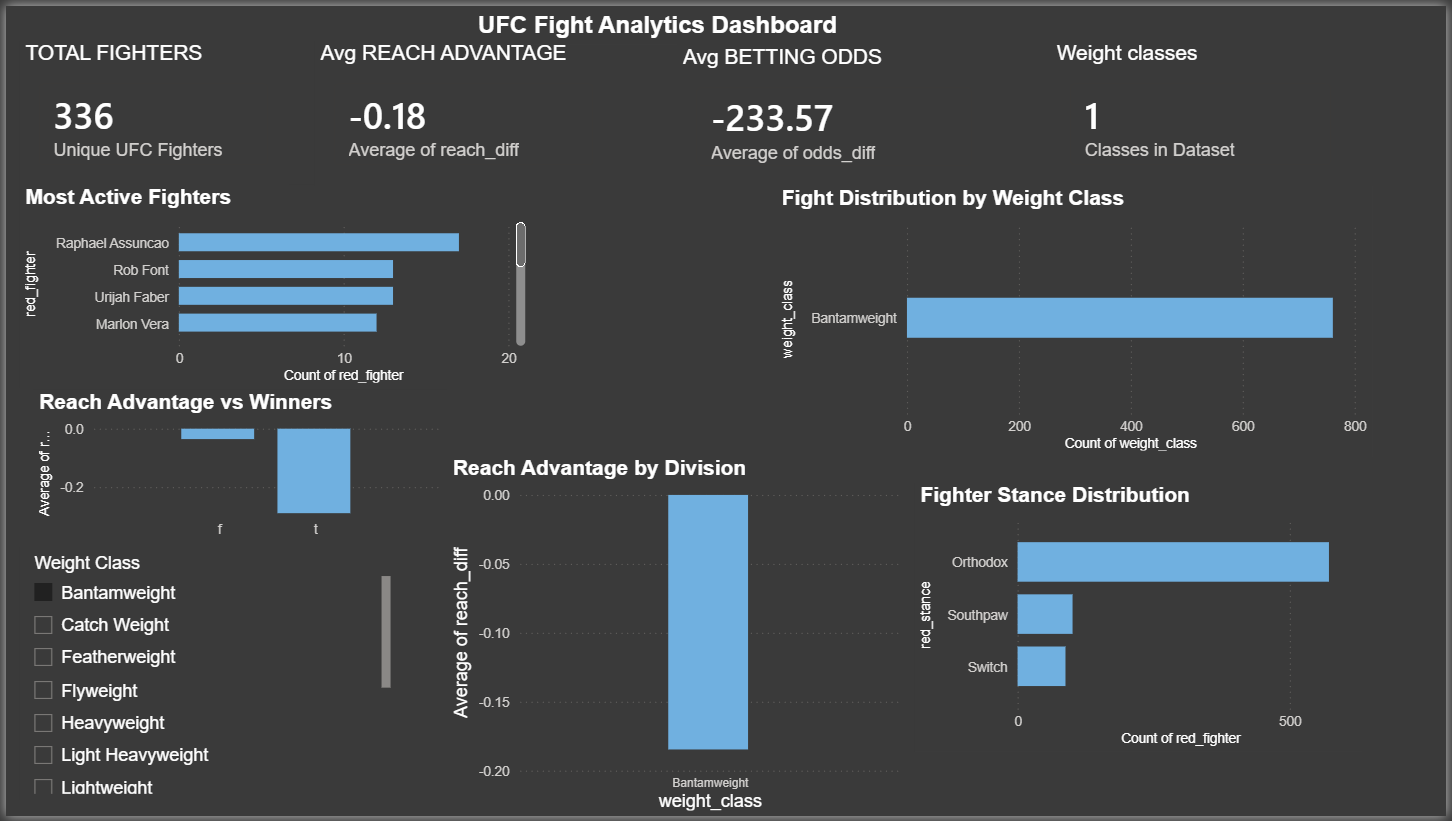

What the dashboard file says about the page in this screenshot:
{"tool":"powerbi","page":{"name":"Page 1","canvas":[1280,720],"ordinal":0},"visuals":[{"type":"barChart","title":"Most Active Fighters","fields":{"Category":["all_fights.red_fighter"],"Y":["CountNonNull(all_fights.red_fighter)"]},"box":[12.4,159.4,454.5,180.9],"z":0},{"type":"barChart","title":"Fight Distribution by Weight Class","fields":{"Category":["all_fights.weight_class"],"Y":["CountNonNull(all_fights.weight_class)"]},"box":[683.9,159.6,530.6,240.4],"z":1000},{"type":"clusteredColumnChart","title":"Reach Advantage vs Winners","fields":{"Category":["all_fights.red_winner"],"Y":["Avg(all_fights.reach_diff)"]},"box":[24.6,340.6,367.4,140.7],"z":2000},{"type":"slicer","fields":{"Values":["all_fights.weight_class"]},"box":[12.3,481.3,335,224.4],"z":3000},{"type":"cardVisual","title":"Weight classes","fields":{"Data":["Count(all_fights.weight_class)"]},"box":[929,31.3,266.9,128.4],"z":4000},{"type":"cardVisual","title":"   TOTAL FIGHTERS","fields":{"Data":["all_fights.ALL UFC FIGHTERS"]},"box":[12.3,31.3,239,128.4],"z":5000},{"type":"cardVisual","title":"Avg REACH ADVANTAGE","fields":{"Data":["Avg(all_fights.reach_diff)"]},"box":[274.7,31.3,265.8,128.4],"z":6000},{"type":"cardVisual","title":"Avg BETTING ODDS","fields":{"Data":["Avg(all_fights.odds_diff)"]},"box":[596.3,34.6,279.2,125.1],"z":7000},{"type":"barChart","title":"Fighter Stance Distribution","fields":{"Category":["all_fights.red_stance"],"Y":["CountNonNull(all_fights.red_fighter)"]},"box":[807.3,424.9,397.9,238.3],"z":8000},{"type":"columnChart","title":"Reach Advantage by Division","fields":{"Category":["all_fights.weight_class"],"Y":["Avg(all_fights.reach_diff)"]},"box":[391.9,399.8,407.6,320.5],"z":9000},{"type":"textbox","box":[414.1,0,461.3,34.6],"z":10000}]}

Visuals, with their boxes in screenshot pixels (x1, y1, x2, y2), scaled from the page's 1280x720 canvas onto the 1452x821 screenshot:
"Most Active Fighters" barChart: rect(14, 182, 530, 388)
"Fight Distribution by Weight Class" barChart: rect(776, 182, 1378, 456)
"Reach Advantage vs Winners" clusteredColumnChart: rect(28, 388, 445, 549)
slicer - all_fights.weight_class: rect(14, 549, 394, 805)
"Weight classes" cardVisual: rect(1054, 36, 1357, 182)
"   TOTAL FIGHTERS" cardVisual: rect(14, 36, 285, 182)
"Avg REACH ADVANTAGE" cardVisual: rect(312, 36, 613, 182)
"Avg BETTING ODDS" cardVisual: rect(676, 39, 993, 182)
"Fighter Stance Distribution" barChart: rect(916, 485, 1367, 756)
"Reach Advantage by Division" columnChart: rect(445, 456, 907, 820)
textbox: rect(470, 0, 993, 39)
